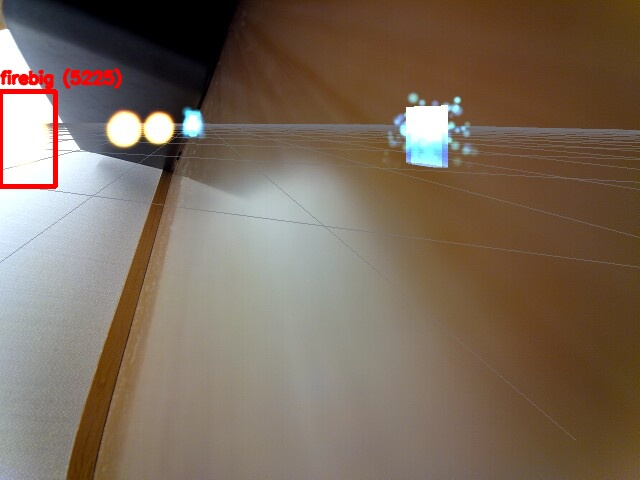firebig: (0, 91, 55, 186)
